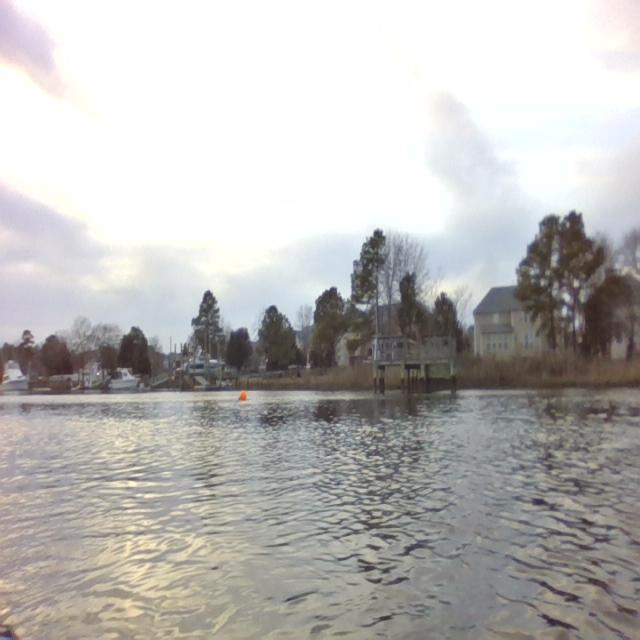Buoy: (236, 388, 248, 404)
